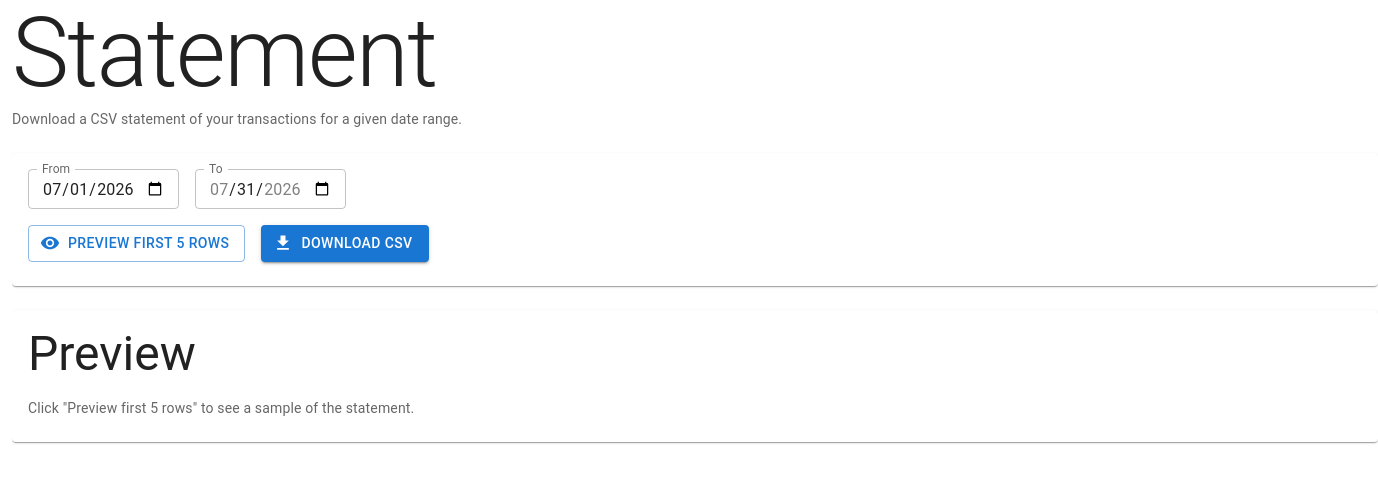
StatementPage › disables the download button when the From date is cleared
Step 1. Clear the date field with test id "date-from" → (104, 189), box [28, 169, 179, 209]
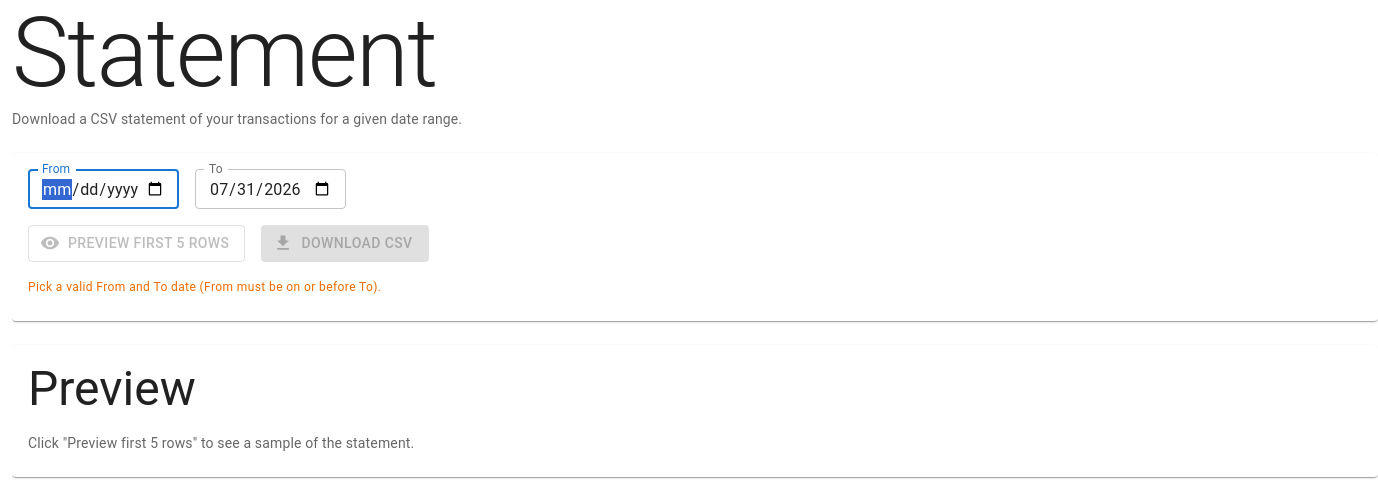
Expected: the text with test id "range-required" is shown, [28, 280, 381, 294]
Expected: the button with test id "download-button" is disabled, [261, 225, 429, 262]
